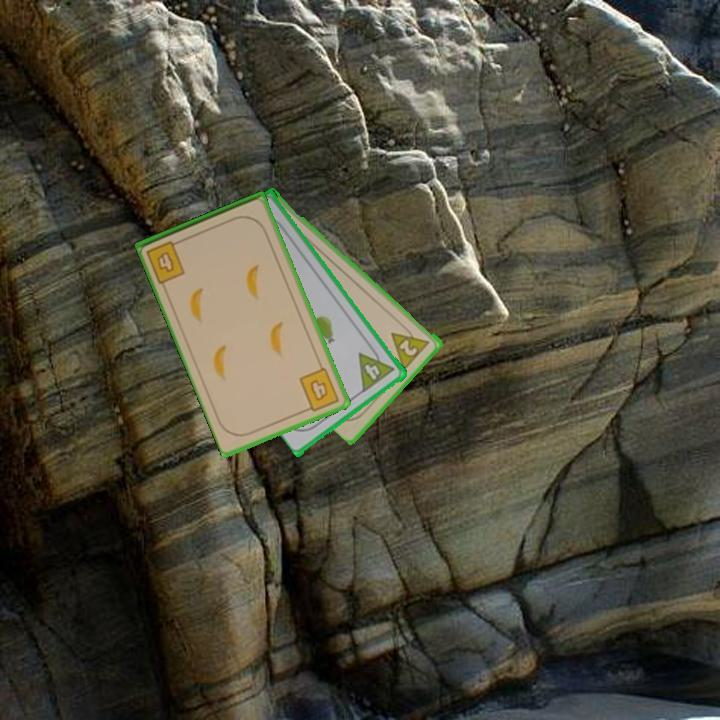2p: (396, 336, 421, 359)
4b: (296, 364, 342, 415), (143, 236, 188, 286)
4p: (355, 342, 398, 394)
